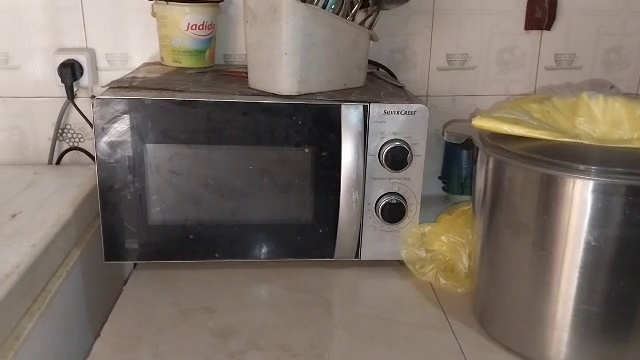microwave: (85, 83, 432, 271)
